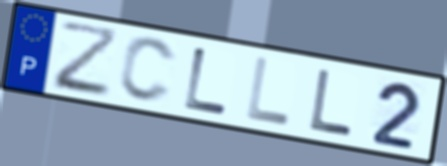2: (366, 77, 428, 153)
C: (116, 35, 179, 106)
L: (182, 45, 232, 118), (244, 55, 293, 128), (308, 67, 355, 139)
Z: (53, 19, 122, 100)
